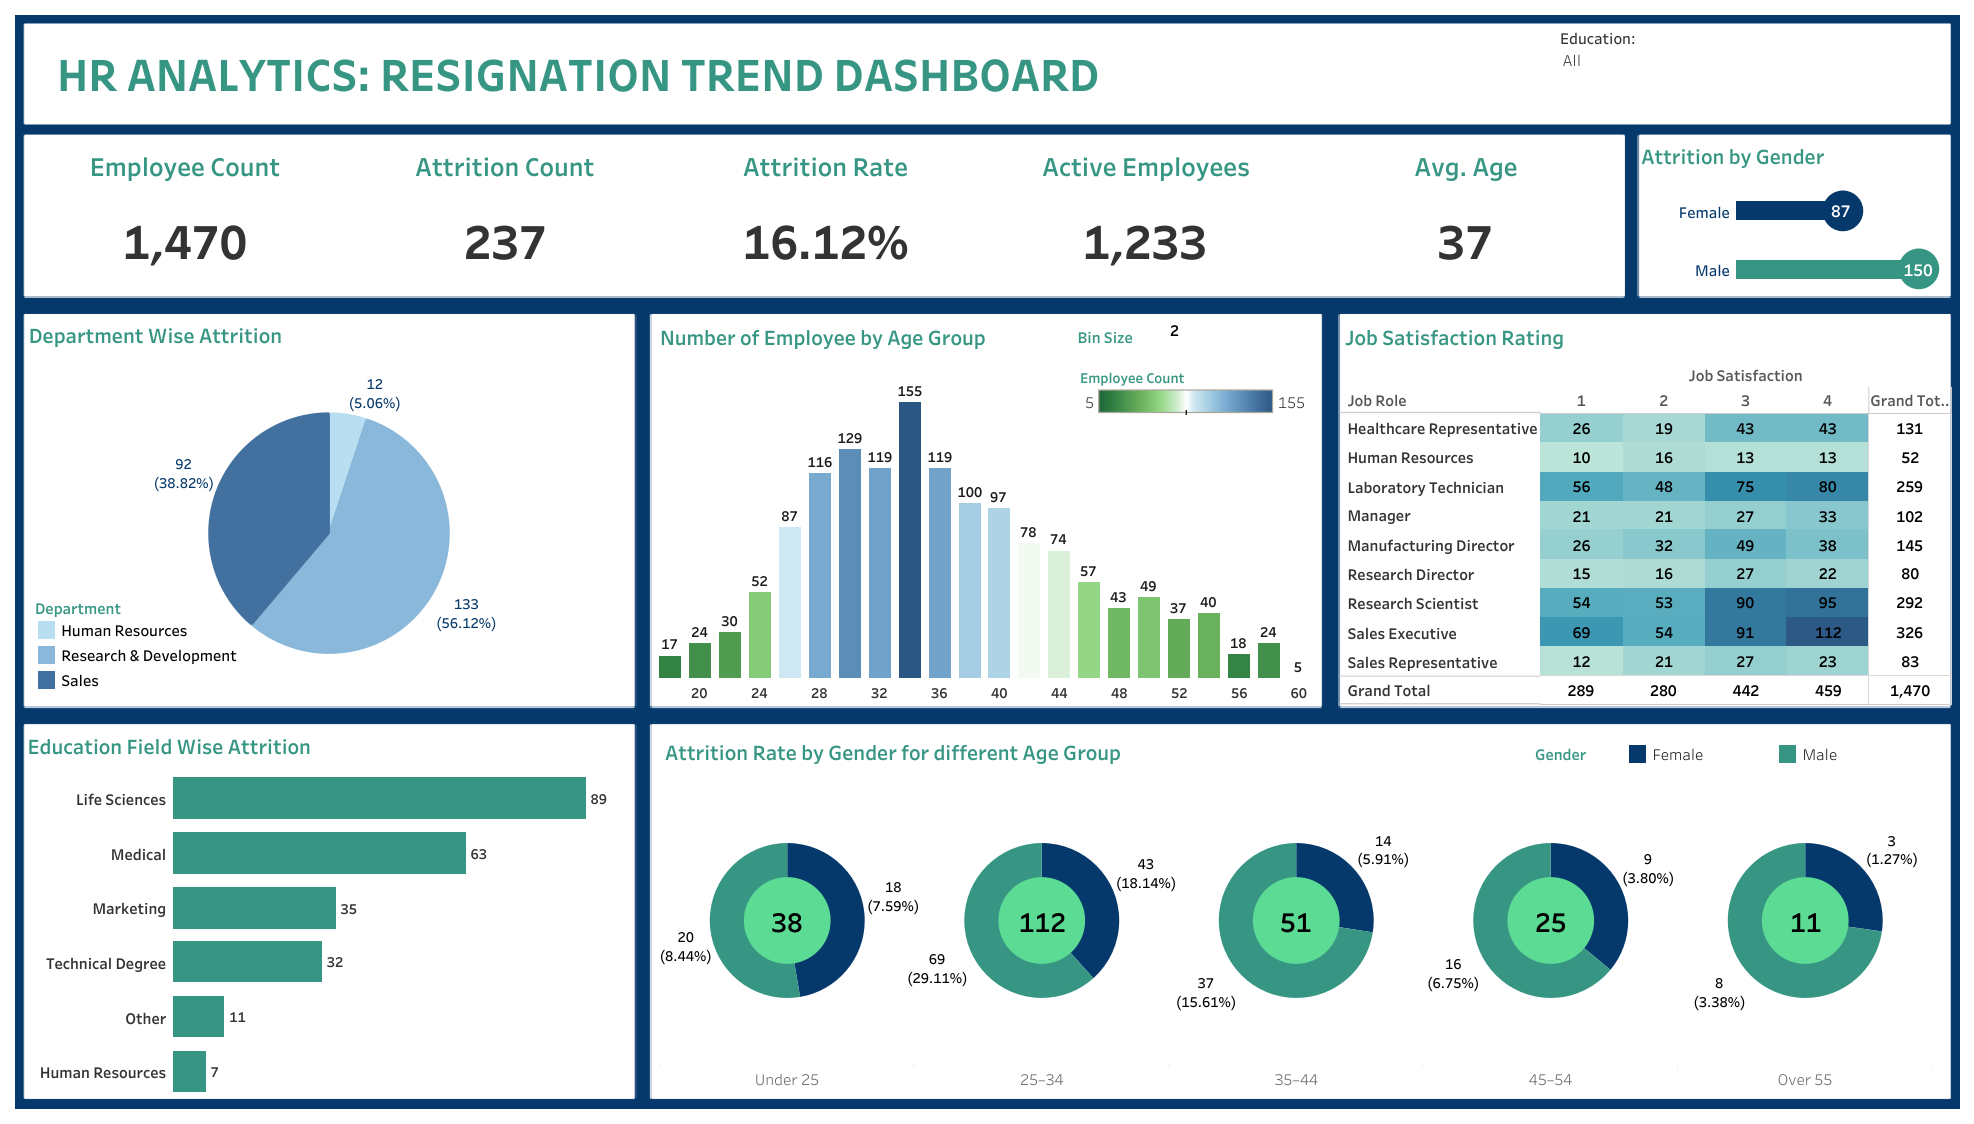

What the dashboard file says about the page in this screenshot:
{"tool":"tableau","page":{"name":"HR ANALYTICS DASHBOARD","canvas":[1580,900],"ordinal":0},"visuals":[{"type":"image","param":"Image/tableau bg.png","box":[8,8,1564,884]},{"type":"text","box":[43,18,1040,80]},{"type":"filter","title":"Attrition Rate by Gender for different Age Group","param":"[federated.19gcpfv11a0dbq18vbtxk1l0d3xx].[none:Calculation_1695605283046273030:n","box":[1248,20,312,76]},{"type":"worksheet","title":"KPI","mark":"Automatic","box":[20,107,1281,129]},{"type":"worksheet","title":"Attrition by Gender","mark":"Automatic","rows":["Gender"],"cols":["Calculation_1695605282868477952","Calculation_1695605282868477952"],"box":[1309,107,251,132]},{"type":"worksheet","title":"Department Wise Attrition","mark":"Pie","box":[19,250,488,315]},{"type":"worksheet","title":"Number of Employee by Age Group","mark":"Automatic","rows":["EmployeeCount"],"cols":["Age (bin)"],"box":[524,252,527,310]},{"type":"worksheet","title":"Job Satisfaction Rating","mark":"Square","rows":["JobRole"],"cols":["JobSatisfaction"],"box":[1072,252,490,313]},{"type":"parameter","param":"[Parameters].[Parameter 1]","box":[862,255,192,27]},{"type":"legend","title":"Number of Employee by Age Group","param":"[federated.19gcpfv11a0dbq18vbtxk1l0d3xx].[sum:EmployeeCount:qk]","box":[864,288,185,48]},{"type":"legend","title":"Department Wise Attrition","param":"[federated.19gcpfv11a0dbq18vbtxk1l0d3xx].[none:Department:nk]","box":[27,475,203,85]},{"type":"worksheet","title":"Education Field Wise Attrition","mark":"Automatic","rows":["EducationField"],"cols":["Calculation_1695605282868477952"],"box":[18,579,491,300]},{"type":"worksheet","title":"Attrition Rate by Gender for different Age Group","mark":"Pie","rows":["Calculation_1695605283028893701","Calculation_1695605283028893701"],"cols":["Calculation_1695605283025592323"],"box":[528,584,1019,288]},{"type":"legend","title":"Attrition Rate by Gender for different Age Group","param":"[federated.19gcpfv11a0dbq18vbtxk1l0d3xx].[none:Gender:nk]","box":[1228,593,319,21]}]}

Visuals, with their boxes in screenshot pixels (x1, y1, x2, y2), scaled from the page's 1580x900 canvas onto the 1974x1124 screenshot:
image: (10, 10, 1964, 1114)
text: (54, 22, 1353, 122)
"Attrition Rate by Gender for different Age Group" filter: (1559, 25, 1949, 120)
"KPI" worksheet: (25, 134, 1625, 295)
"Attrition by Gender" worksheet: (1635, 134, 1949, 298)
"Department Wise Attrition" worksheet (Pie marks): (24, 312, 633, 706)
"Number of Employee by Age Group" worksheet: (655, 315, 1313, 702)
"Job Satisfaction Rating" worksheet (Square marks): (1339, 315, 1952, 706)
parameter: (1077, 318, 1317, 352)
"Number of Employee by Age Group" legend: (1079, 360, 1311, 420)
"Department Wise Attrition" legend: (34, 593, 287, 699)
"Education Field Wise Attrition" worksheet: (22, 723, 636, 1098)
"Attrition Rate by Gender for different Age Group" worksheet (Pie marks): (660, 729, 1933, 1089)
"Attrition Rate by Gender for different Age Group" legend: (1534, 741, 1933, 767)
